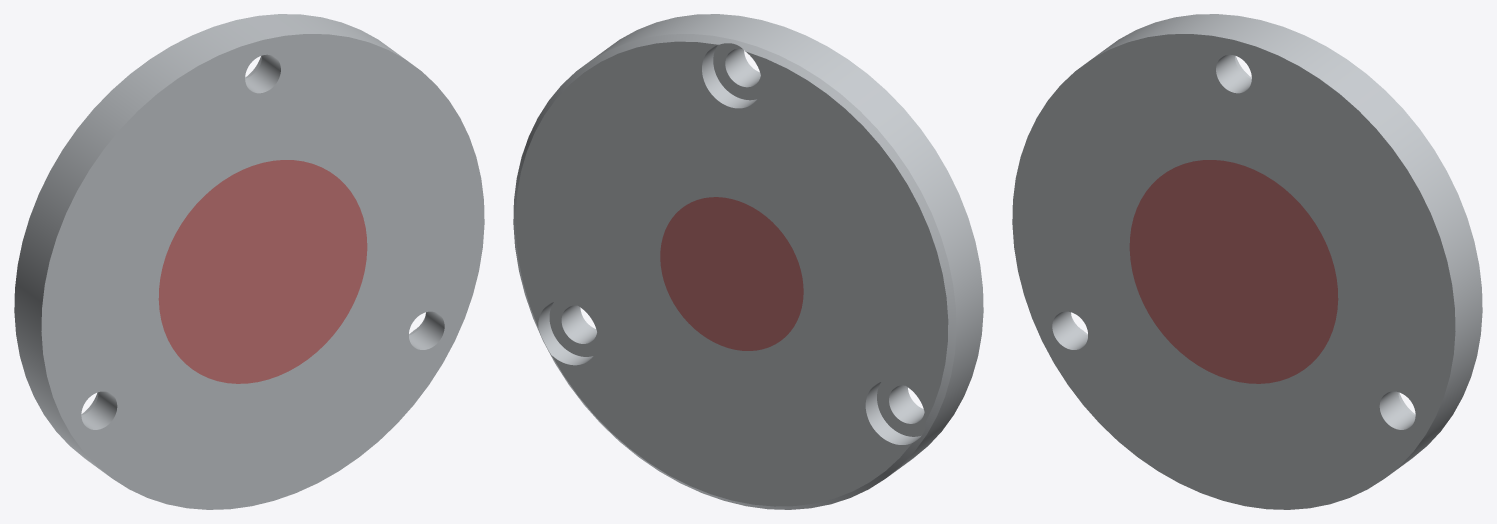
Rendered from step_22.glb.
The picture shows the model from 3 angles, left to right: view 1: azimuth 30°, elevation 25°; view 2: azimuth 150°, elevation 25°; view 3: azimuth 330°, elevation 25°; orthographic projection.
Parts seen in each view (by area): view 1: part__through cap (input), removed__through cap (input); view 2: part__through cap (input), removed__through cap (input); view 3: part__through cap (input), removed__through cap (input).
Part boxes in pixels (x1,y1,x2,y2): part__through cap (input): [14, 14, 484, 509]; removed__through cap (input): [158, 160, 367, 383]; part__through cap (input): [513, 14, 983, 509]; removed__through cap (input): [660, 197, 803, 350]; part__through cap (input): [1012, 14, 1482, 509]; removed__through cap (input): [1129, 160, 1338, 383].
Bounding box in the file's own units: 67.98 × 67.96 × 8.
